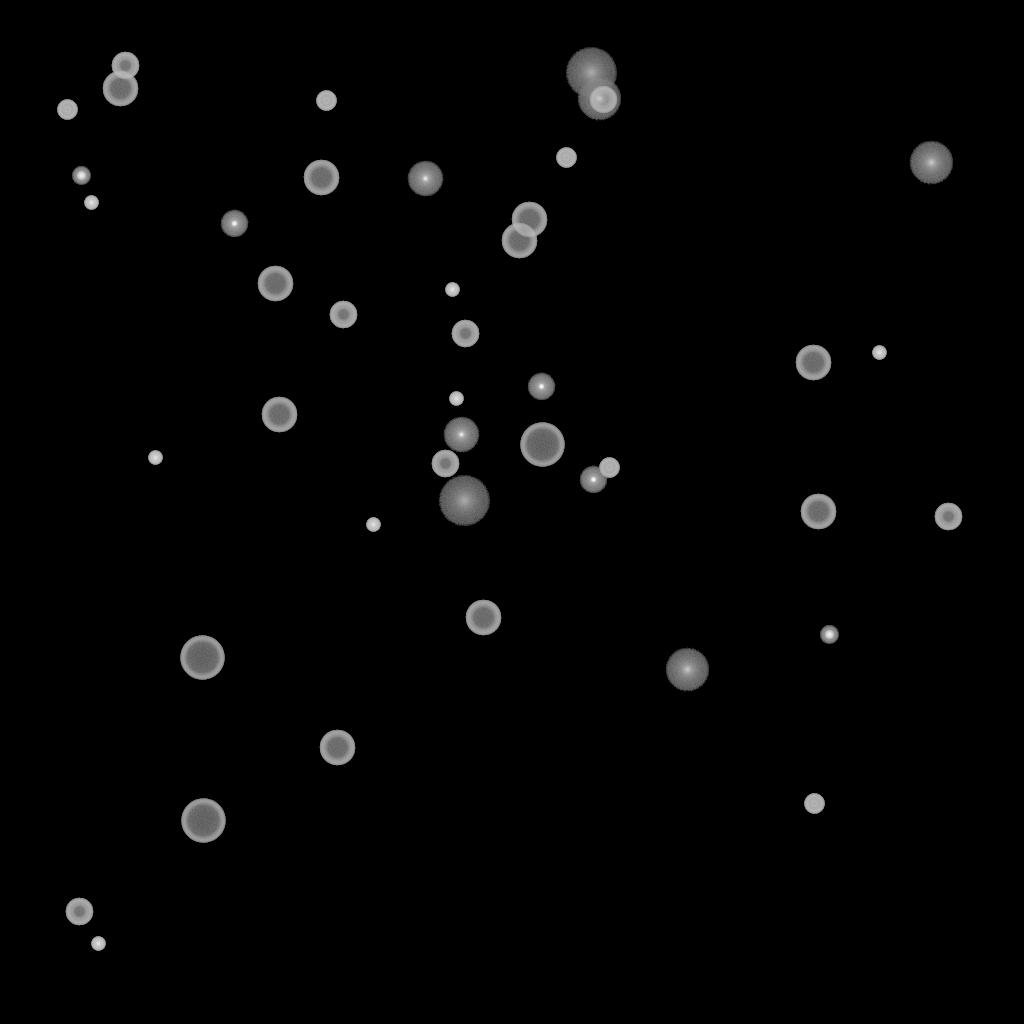depth:-10: (527, 373, 555, 401), (220, 210, 248, 238), (579, 466, 607, 494)
depth:-20: (820, 626, 838, 644), (72, 167, 90, 185)
depth:-30: (449, 392, 463, 406), (84, 196, 98, 210), (872, 346, 886, 360), (91, 937, 105, 951), (148, 451, 162, 465), (366, 518, 380, 532), (445, 283, 459, 297)
depth:-40: (556, 148, 576, 168), (316, 91, 336, 111), (599, 458, 619, 478), (804, 794, 824, 814), (57, 100, 77, 120)
depth:-50: (65, 898, 93, 926), (451, 320, 479, 348), (431, 450, 459, 478), (329, 301, 357, 329), (589, 86, 617, 114), (934, 503, 962, 531), (111, 52, 139, 80)
depth:-60: (261, 397, 297, 433), (102, 71, 138, 107), (501, 223, 537, 259), (795, 345, 831, 381), (511, 202, 547, 238), (303, 160, 339, 196), (465, 600, 501, 636), (257, 266, 293, 302), (800, 494, 836, 530), (319, 730, 355, 766)
depth:-70: (180, 636, 224, 680), (520, 423, 564, 467), (181, 799, 225, 843)
depth:0: (443, 417, 479, 453), (407, 161, 443, 197)
depth:10: (577, 77, 621, 121), (909, 141, 953, 185), (665, 648, 709, 692)
depth:20: (565, 48, 617, 98), (438, 476, 490, 526)
